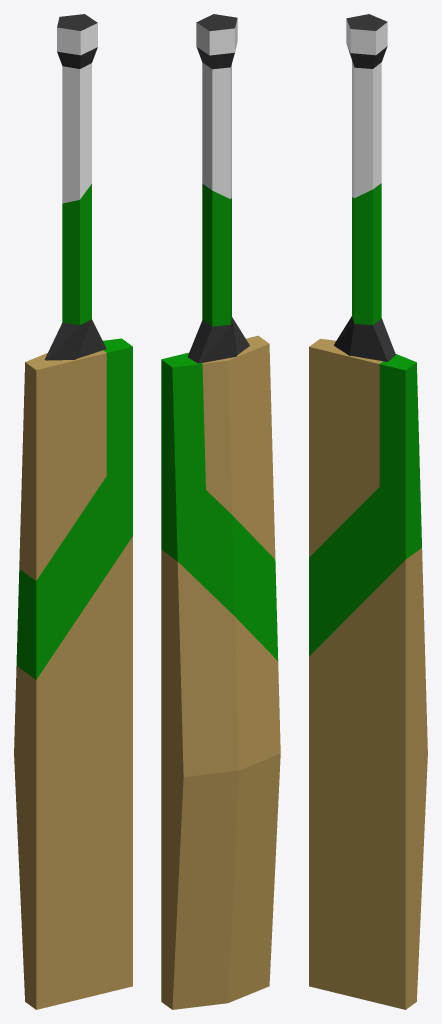
Rendered from CrickietBat_C3.fbx.
3 renders of one model, left to right at view 1: azimuth 30°, elevation 25°; view 2: azimuth 210°, elevation 25°; view 3: azimuth 330°, elevation 25°, orthographic.
Parts seen in each view (by area): view 1: CrickietBat_C3; view 2: CrickietBat_C3; view 3: CrickietBat_C3.
Part boxes in pixels (x1=…): CrickietBat_C3: x1=14, y1=14, x2=132, y2=1009; CrickietBat_C3: x1=161, y1=14, x2=280, y2=1009; CrickietBat_C3: x1=309, y1=14, x2=427, y2=1009.
Size of the model in its own units: 8.12 by 77.79 by 4.47.
